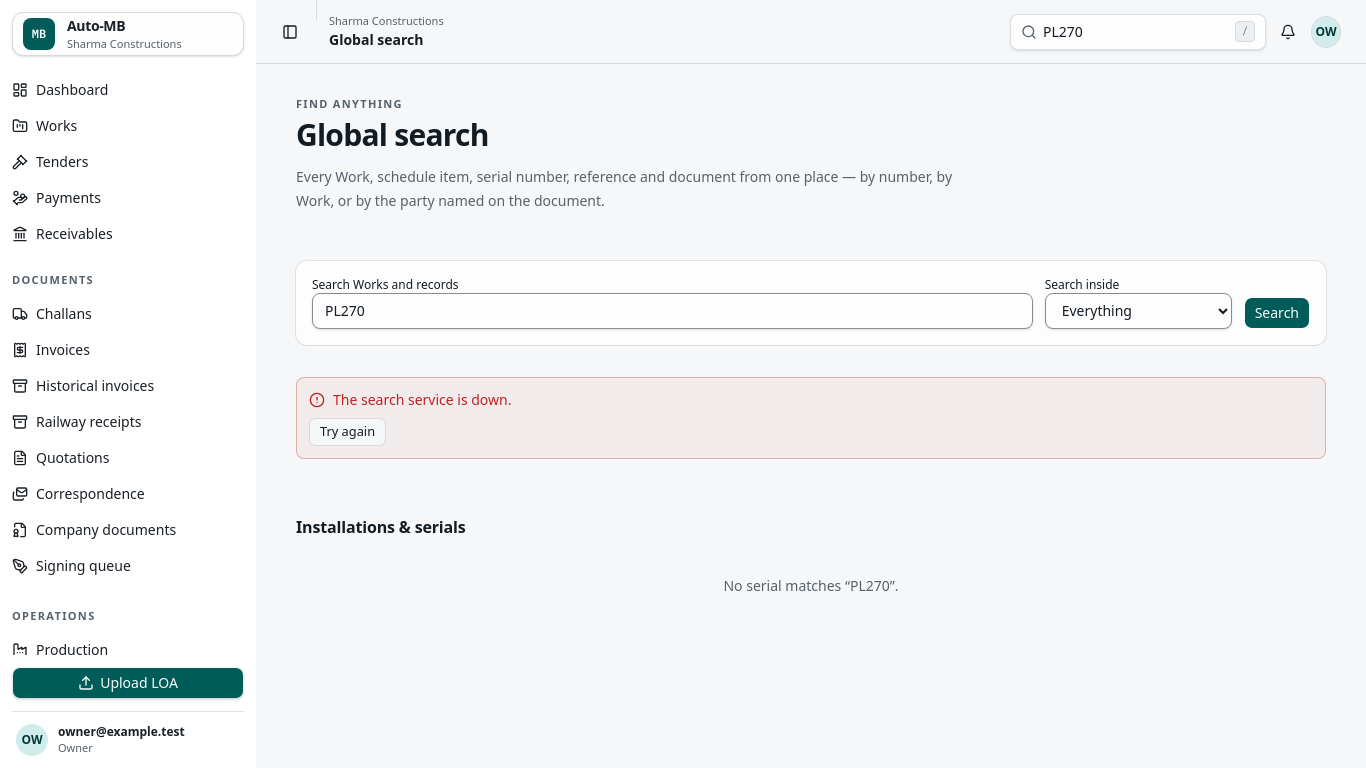
it: record search › shows an error and a retry when the search fails, never an empty result
Expected: the text "The search service is down." is shown, x1=333 y1=390 x2=512 y2=410
Click the button "Try again": point(348, 432) x1=309 y1=418 x2=386 y2=446
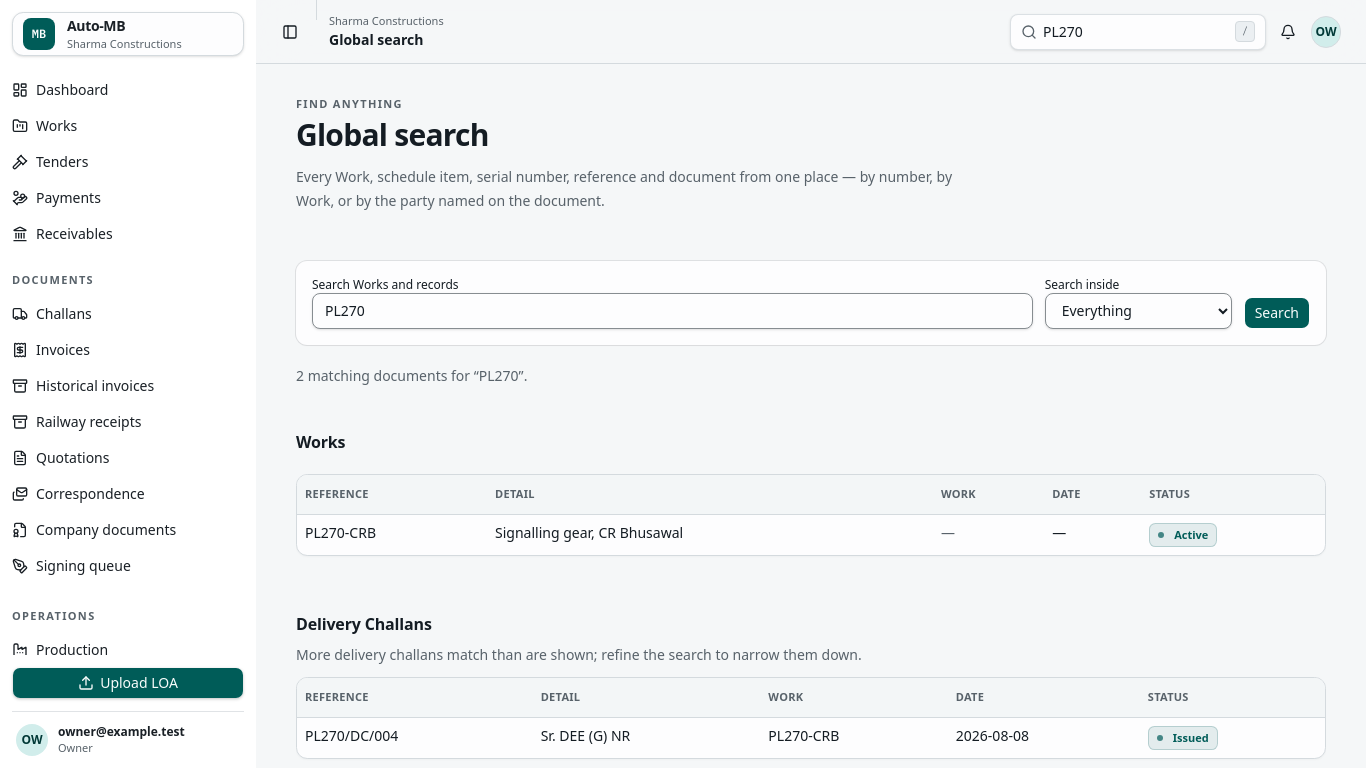
Result: the element "Works" is shown at x1=296 y1=406 x2=1326 y2=568
